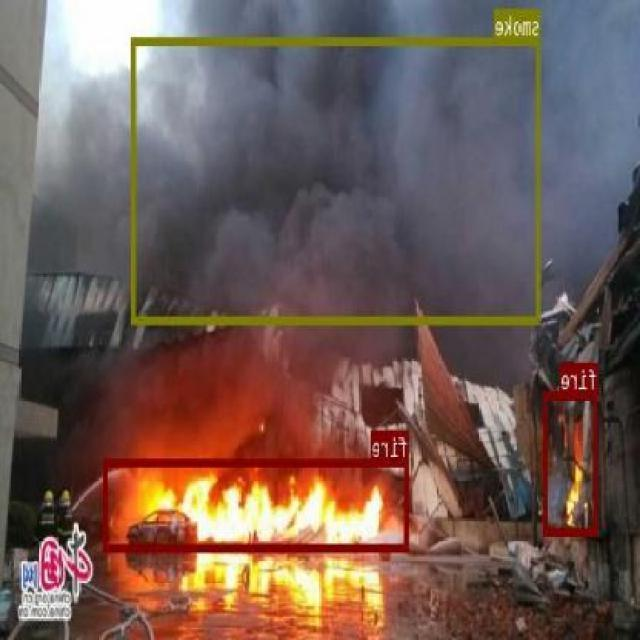Fire: (101, 447, 386, 540)
Smoke: (33, 0, 640, 450)
